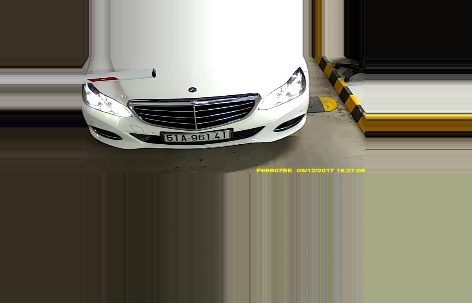plate: (160, 127, 230, 144)
